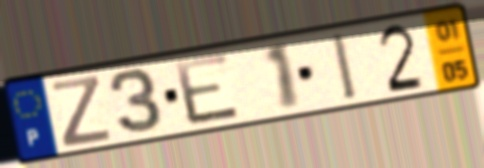1: (263, 39, 302, 115)
2: (376, 22, 427, 96)
3: (105, 67, 165, 136)
E: (171, 50, 245, 128)
I: (328, 30, 361, 104)
Z: (49, 73, 114, 150)
